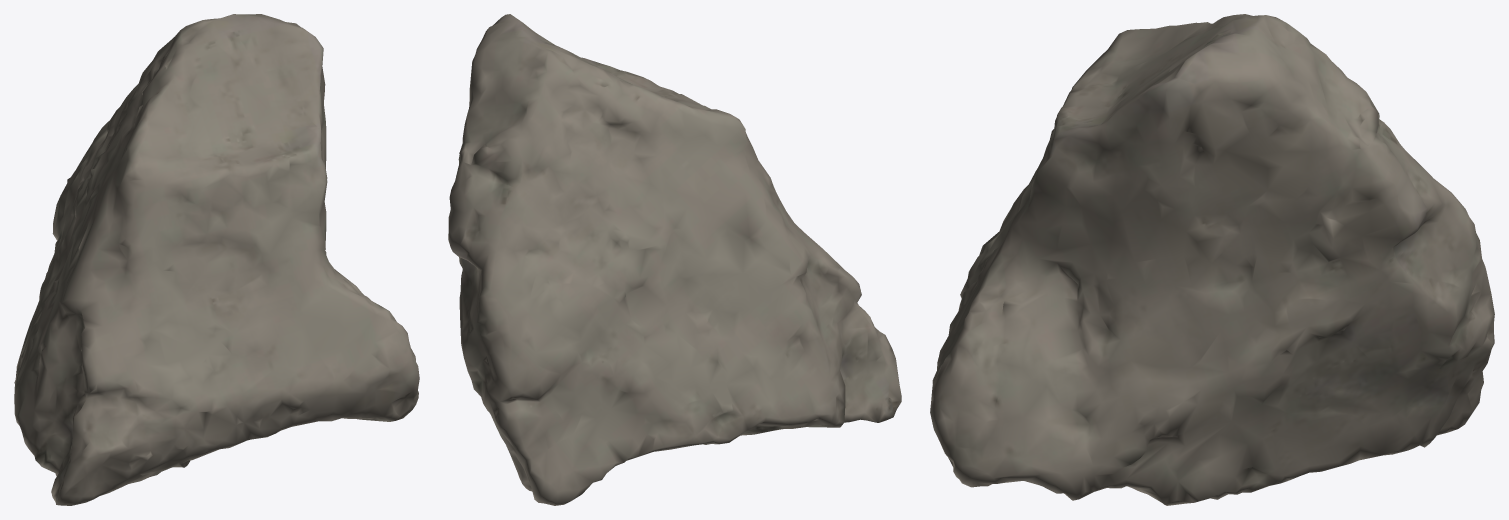
File: rock.glb
3 views of the same model, side by side, from view 1: azimuth 30°, elevation 25°; view 2: azimuth 150°, elevation 25°; view 3: azimuth 270°, elevation 25° (orthographic). The views are drawn at different scales.
Visible parts, largest first — view 1: moon_rock_05_LOD0; view 2: moon_rock_05_LOD0; view 3: moon_rock_05_LOD0.
Boxes of the visible parts, x1,y1,x2,y2 form: moon_rock_05_LOD0: [14, 14, 419, 505]; moon_rock_05_LOD0: [448, 14, 901, 505]; moon_rock_05_LOD0: [930, 14, 1494, 505].
Size of the model in its own units: 0.0717 by 0.0734 by 0.0811.
1 material, 1 textured.
